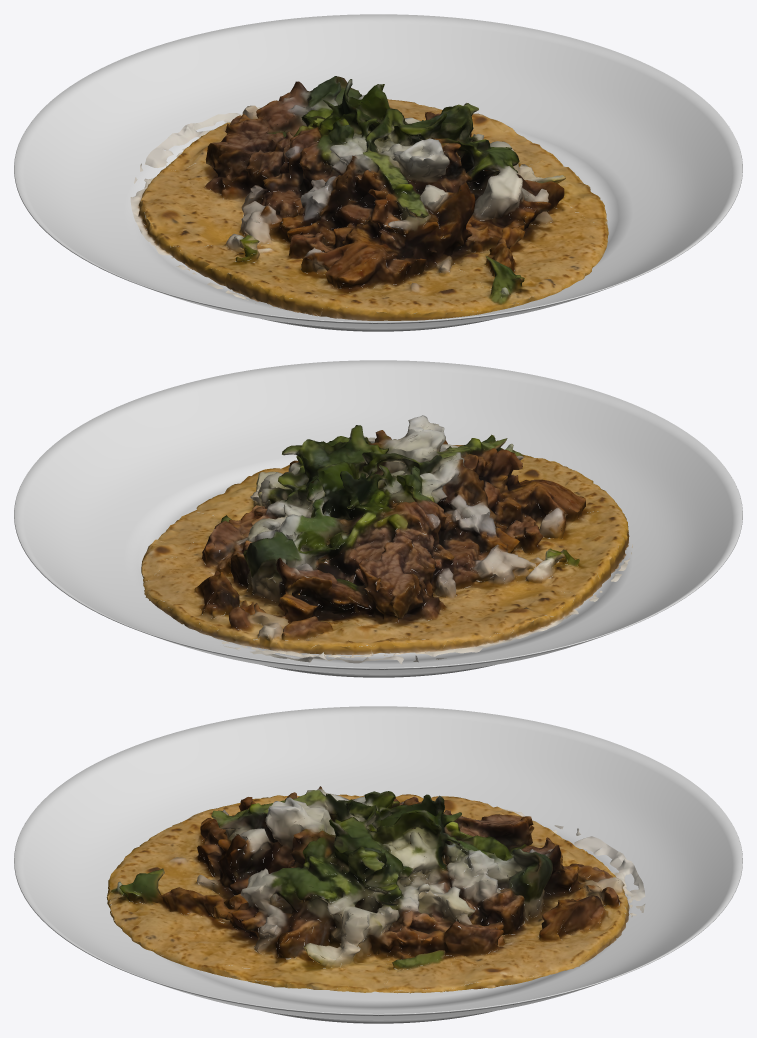
File: TacoOPT.fbx
3 renders of one model, top to bottom at view 1: azimuth 30°, elevation 25°; view 2: azimuth 150°, elevation 25°; view 3: azimuth 270°, elevation 25°, orthographic.
Visible parts, largest first — view 1: Plate, Mesh_0_Part_0.005; view 2: Plate, Mesh_0_Part_0.005; view 3: Plate, Mesh_0_Part_0.005.
Boxes of the visible parts, left/top/right/bottom form: Plate: left=14, top=14, right=742, bottom=331; Mesh_0_Part_0.005: left=130, top=76, right=608, bottom=320; Plate: left=14, top=360, right=742, bottom=677; Mesh_0_Part_0.005: left=141, top=415, right=632, bottom=664; Plate: left=14, top=706, right=742, bottom=1023; Mesh_0_Part_0.005: left=106, top=786, right=645, bottom=993.
Bounding box in the file's own units: 24.72 × 4.89 × 24.72.
2 materials, 1 textured.
